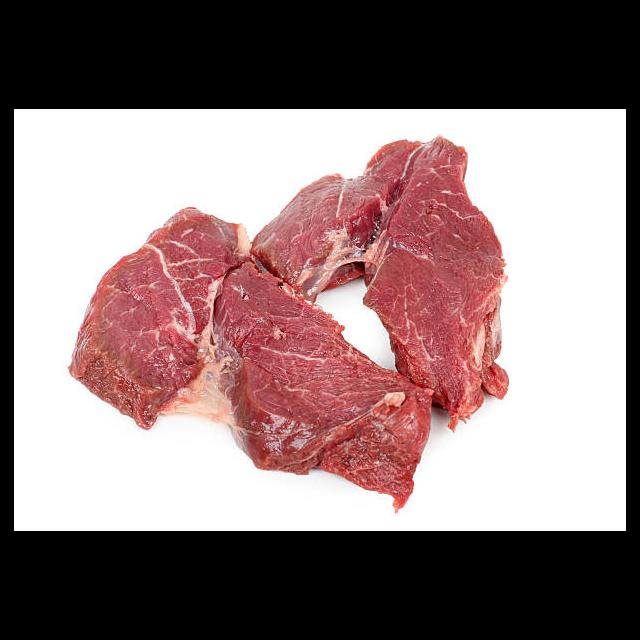beef: (66, 134, 511, 514)
